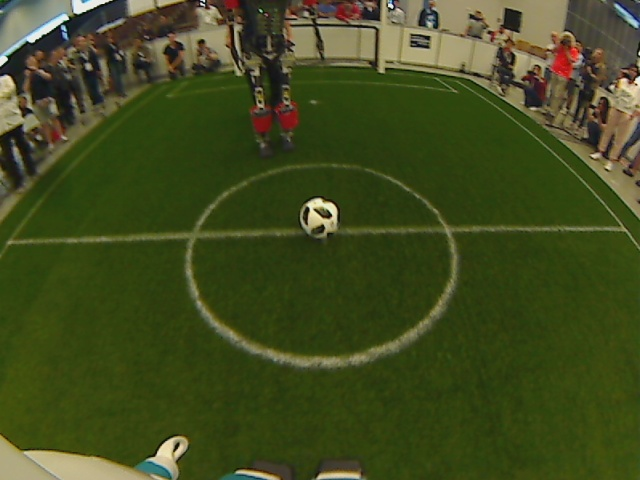ball: (295, 193, 345, 241)
